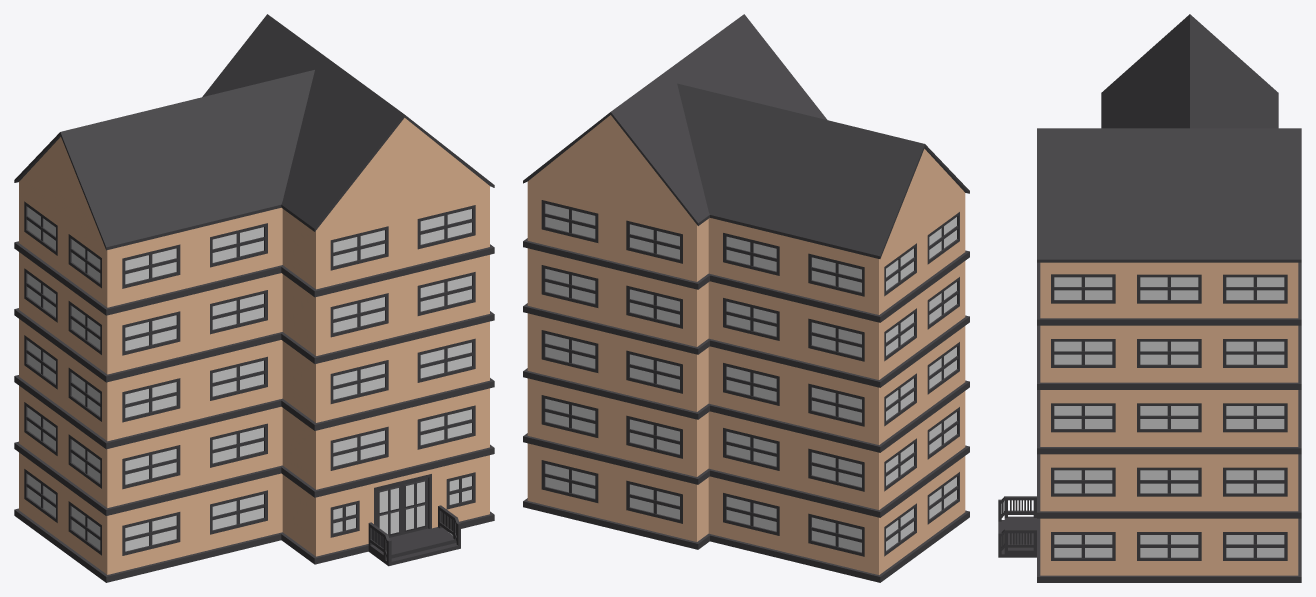
File: business building 32.fbx
3 views of the same model, side by side, from view 1: azimuth 30°, elevation 25°; view 2: azimuth 150°, elevation 25°; view 3: azimuth 270°, elevation 25° (orthographic). The views are drawn at different scales.
Parts seen in each view (by area): view 1: building_001; view 2: building_001; view 3: building_001.
Boxes of the visible parts, x1,y1,x2,y2 form: building_001: (14, 14, 494, 582); building_001: (523, 14, 969, 582); building_001: (998, 14, 1301, 582).
Size of the model in its own units: 1224 by 1410 by 940.
